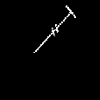treble_crochet: (34, 6, 75, 52)
